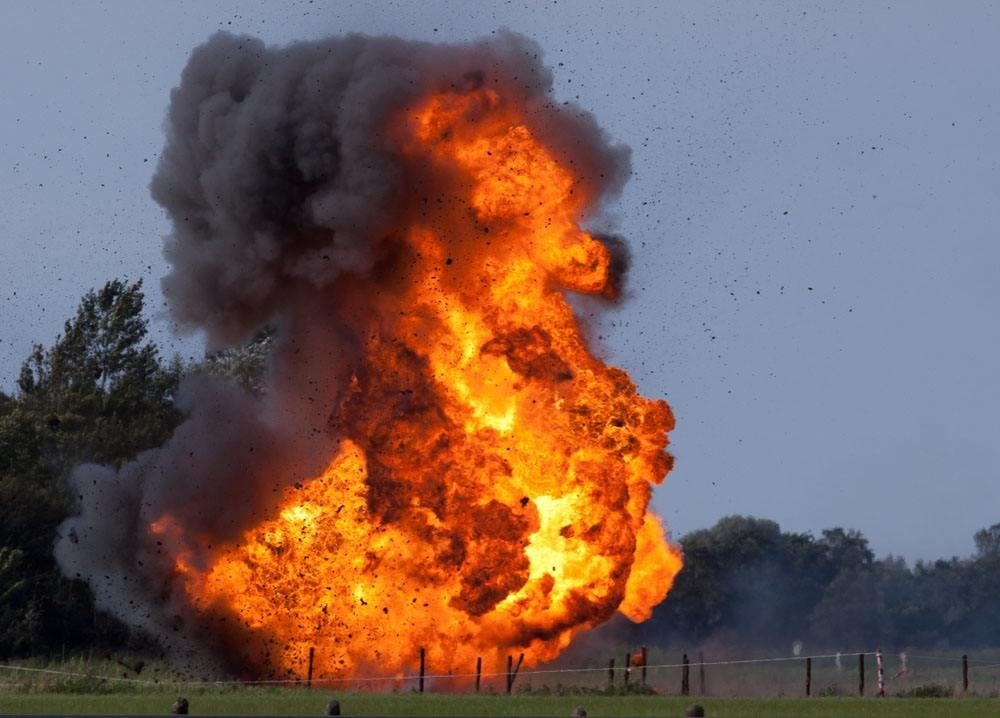fire: (161, 71, 700, 685)
